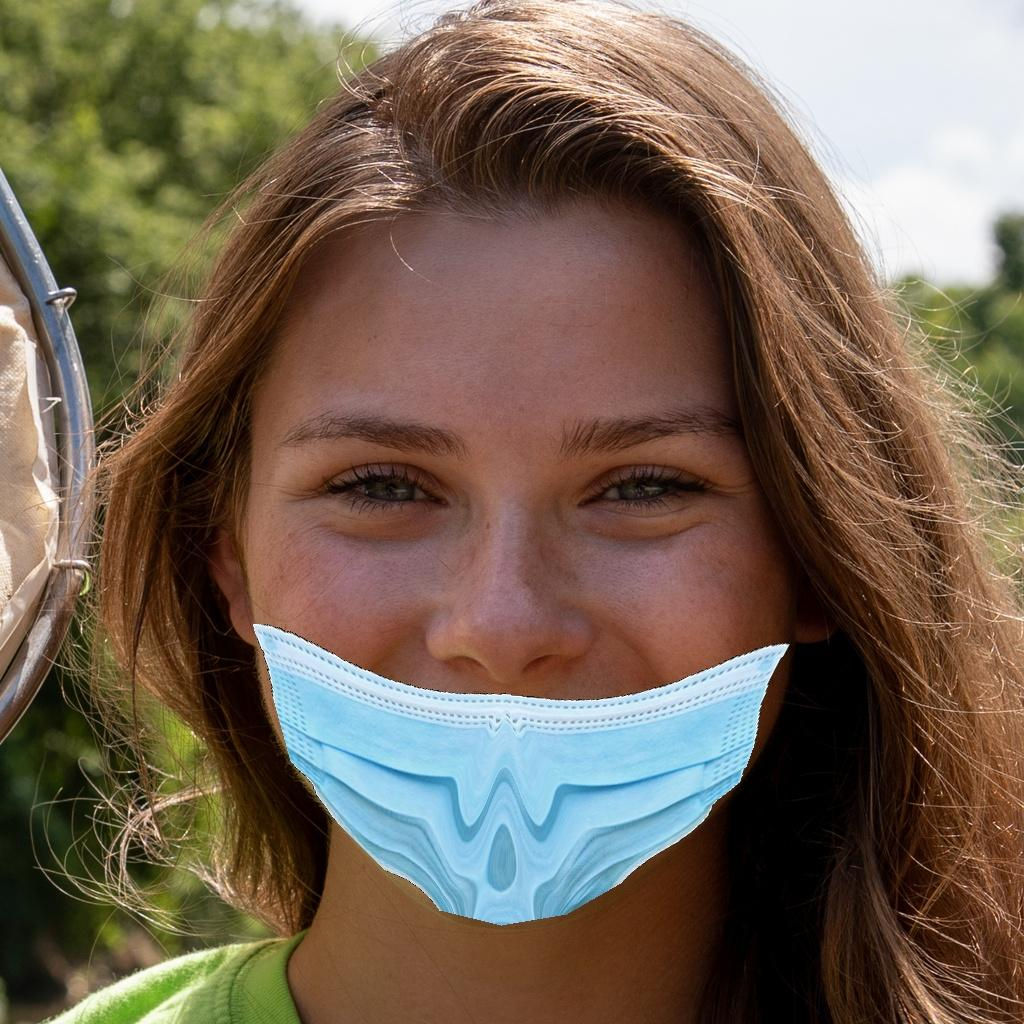Máscara Incorreta: (223, 281, 810, 930)
